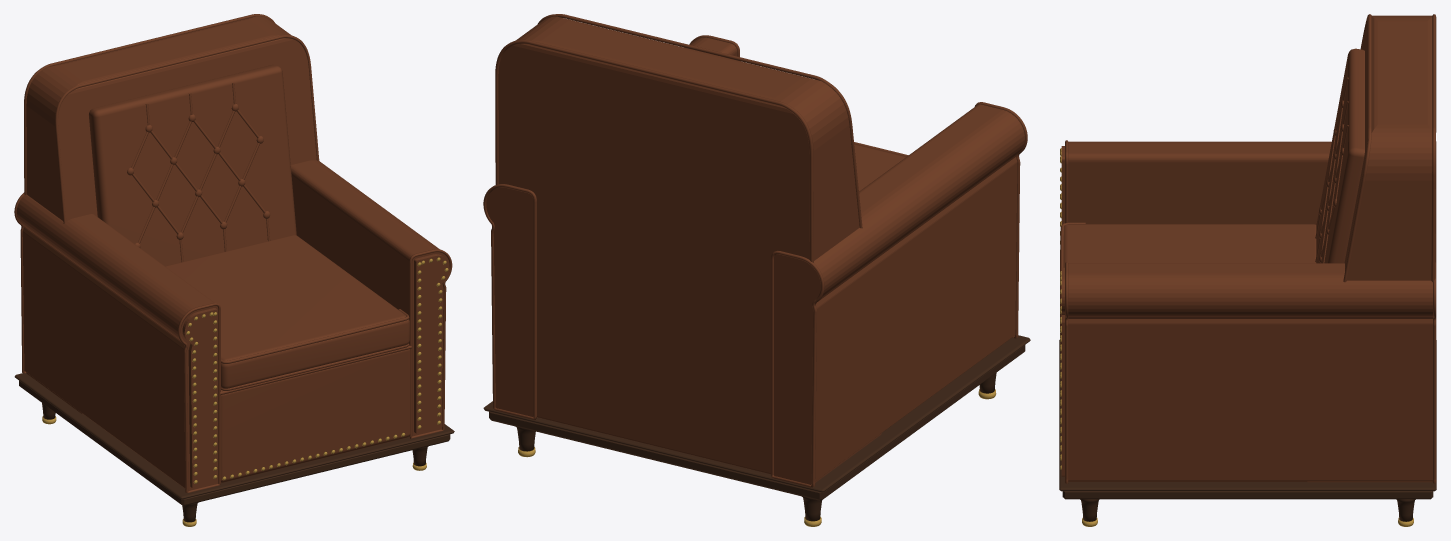
Rendered from armchair.glb.
3 renders of one model, left to right at view 1: azimuth 30°, elevation 25°; view 2: azimuth 150°, elevation 25°; view 3: azimuth 270°, elevation 25°, orthographic. The views are drawn at different scales.
Parts seen in each view (by area): view 1: Leather, Wood, Brass; view 2: Leather, Wood; view 3: Leather, Wood, Brass.
Part boxes in pixels (left/top/right/bottom): Leather: left=14, top=14, right=452, bottom=492; Wood: left=14, top=373, right=454, bottom=522; Brass: left=42, top=257, right=448, bottom=526; Leather: left=483, top=14, right=1027, bottom=487; Wood: left=483, top=335, right=1030, bottom=521; Leather: left=1060, top=14, right=1436, bottom=483; Wood: left=1059, top=340, right=1436, bottom=521; Brass: left=1060, top=148, right=1413, bottom=526.
Bounding box in the file's own units: 0.845 × 1.02 × 0.895.
